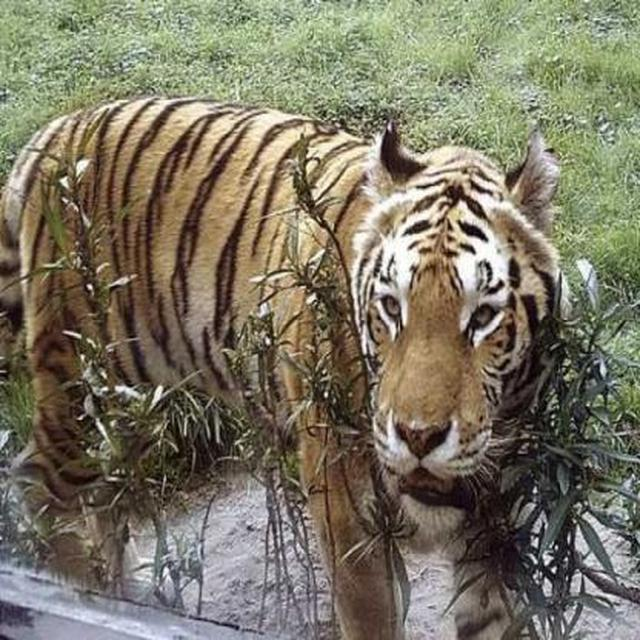tiger: (0, 93, 574, 639)
